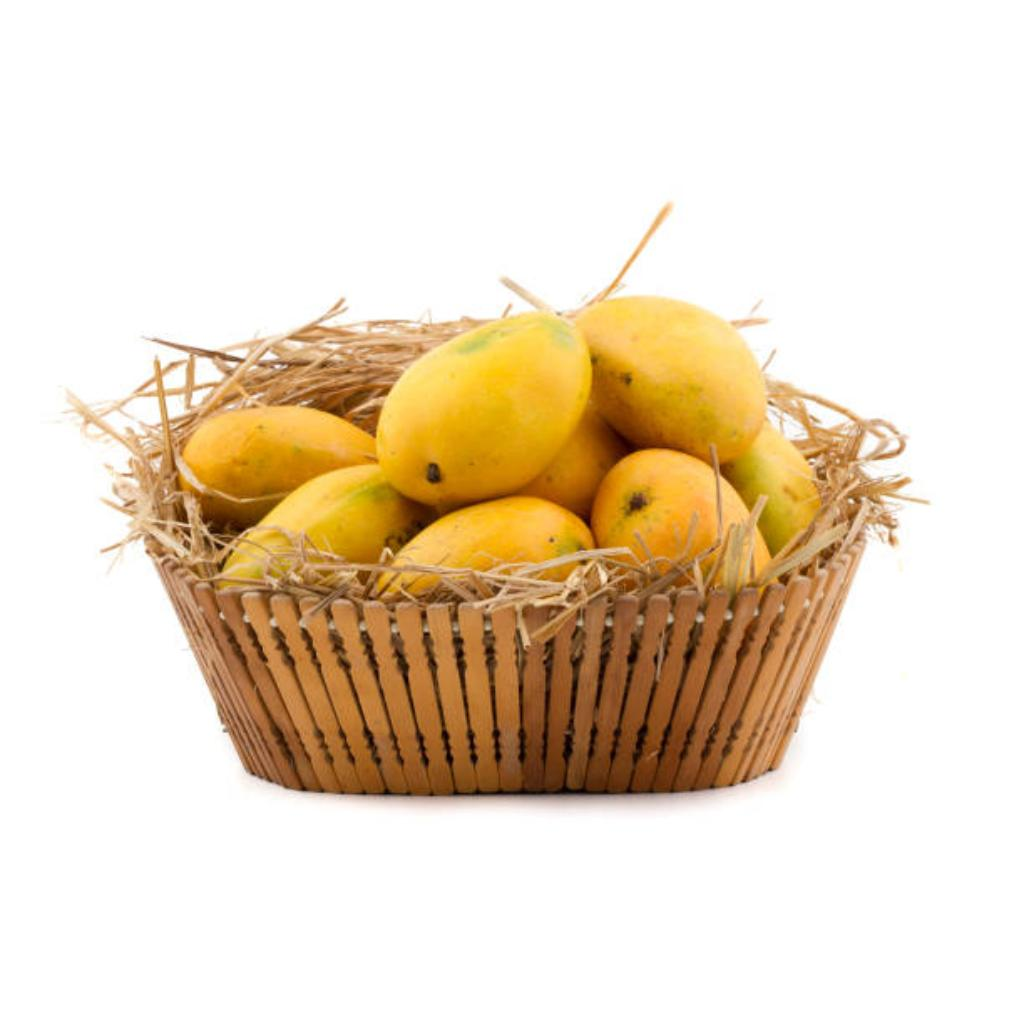mango: (376, 313, 592, 510), (576, 297, 766, 462), (222, 465, 434, 586), (592, 449, 770, 592), (176, 407, 375, 527), (363, 497, 594, 600), (720, 421, 822, 554)
